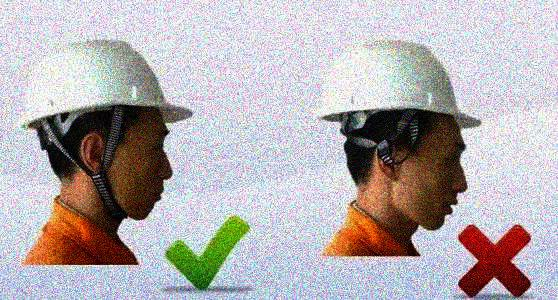helmet: (17, 33, 194, 225), (313, 39, 484, 234)
